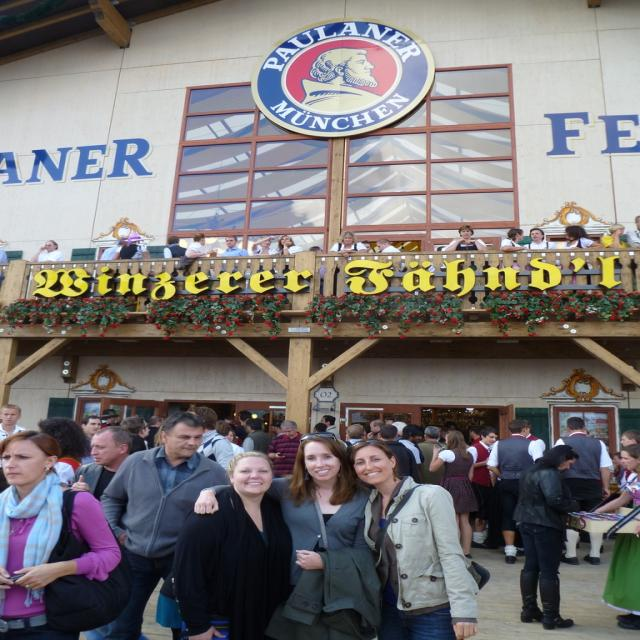paulaner: (250, 18, 435, 139)
